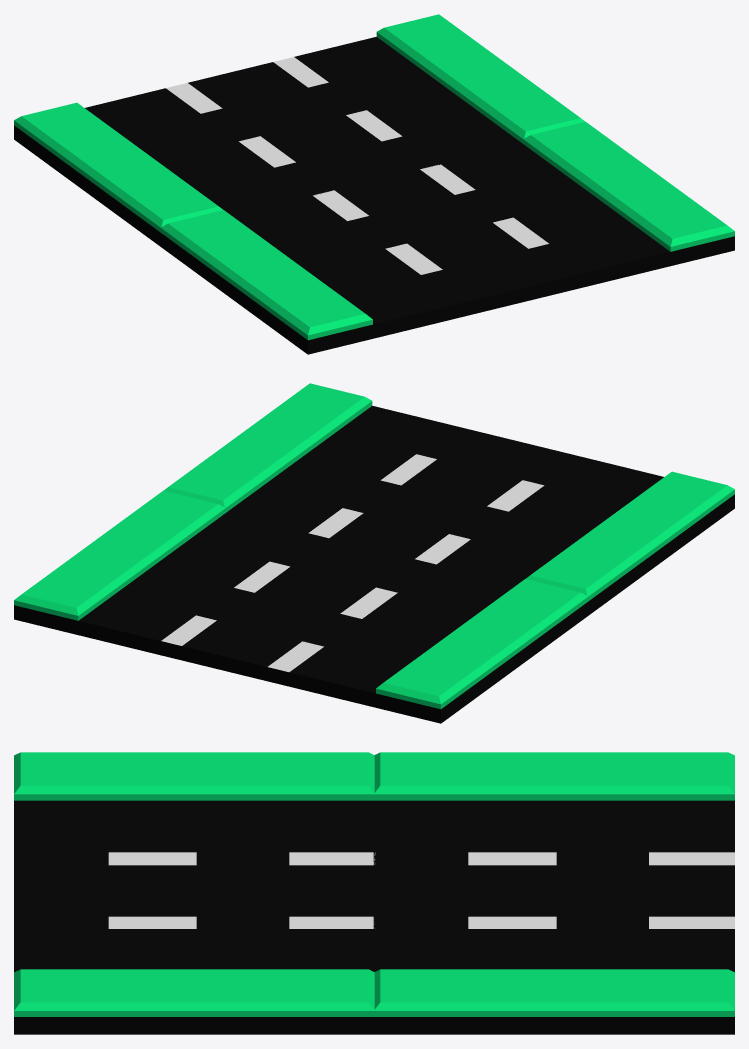
The model's file is Road2.2.fbx.
The picture shows the model from 3 angles, top to bottom: view 1: azimuth 30°, elevation 25°; view 2: azimuth 150°, elevation 25°; view 3: azimuth 270°, elevation 25°; orthographic projection. The views are drawn at different scales.
Parts seen in each view (by area): view 1: pCube1; view 2: pCube1; view 3: pCube1.
Boxes of the visible parts, x1=… form: pCube1: x1=14, y1=14, x2=734, y2=354; pCube1: x1=14, y1=383, x2=734, y2=723; pCube1: x1=14, y1=752, x2=734, y2=1034.
Bounding box in the file's own units: 6202 × 336 × 7394.
